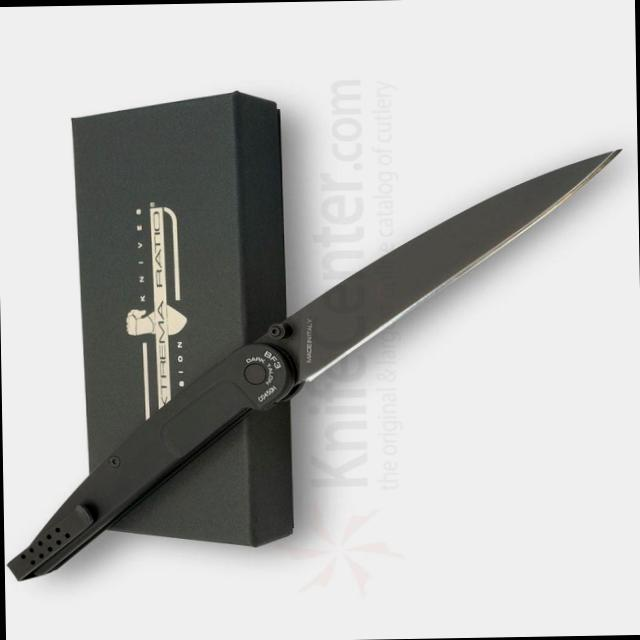knife: (242, 142, 630, 394)
